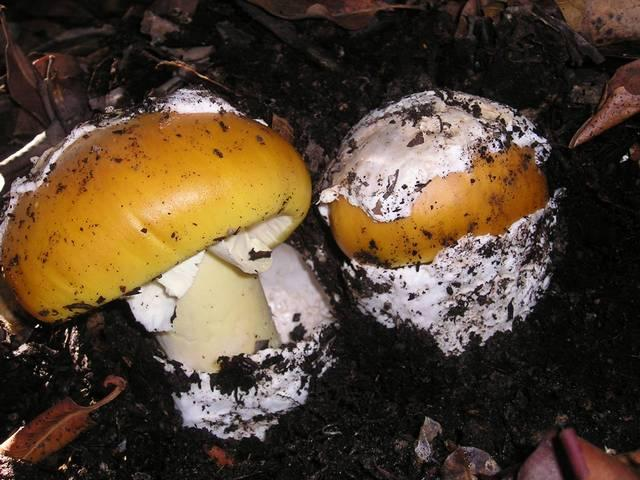Edible Mushroom: (1, 86, 313, 375), (315, 85, 556, 356)
